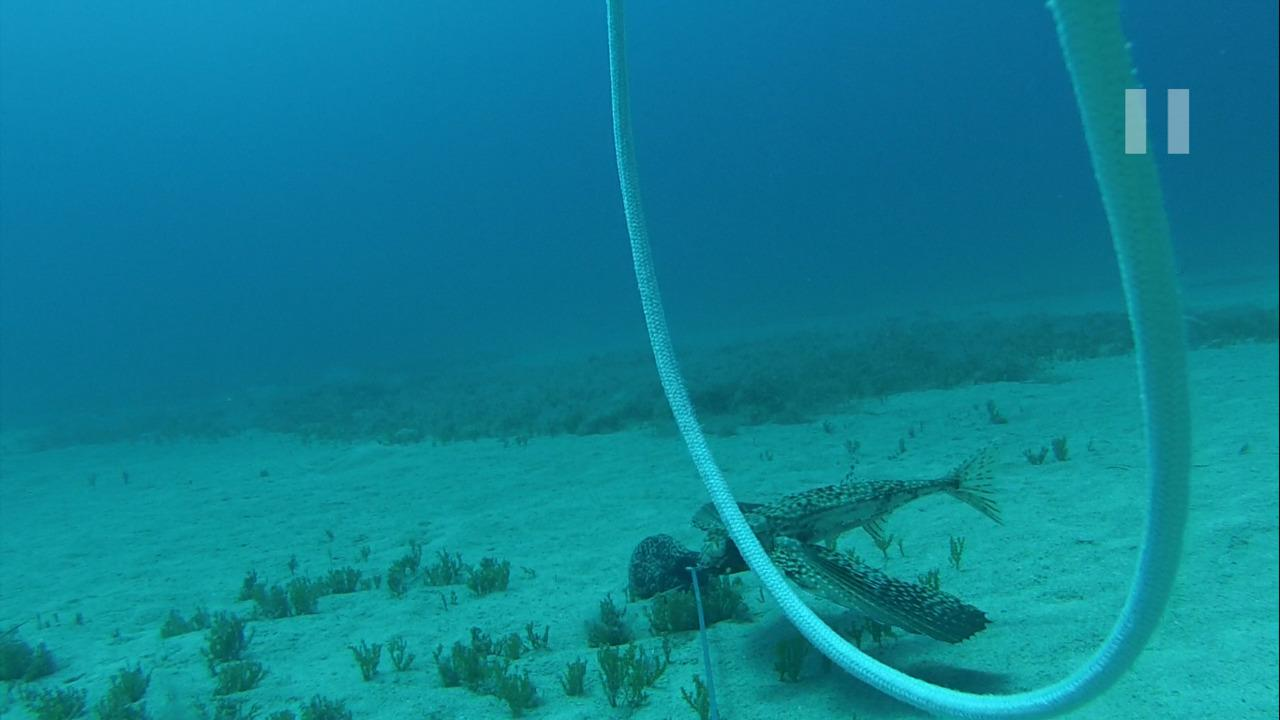dactylopterus: (689, 453, 1003, 646)
